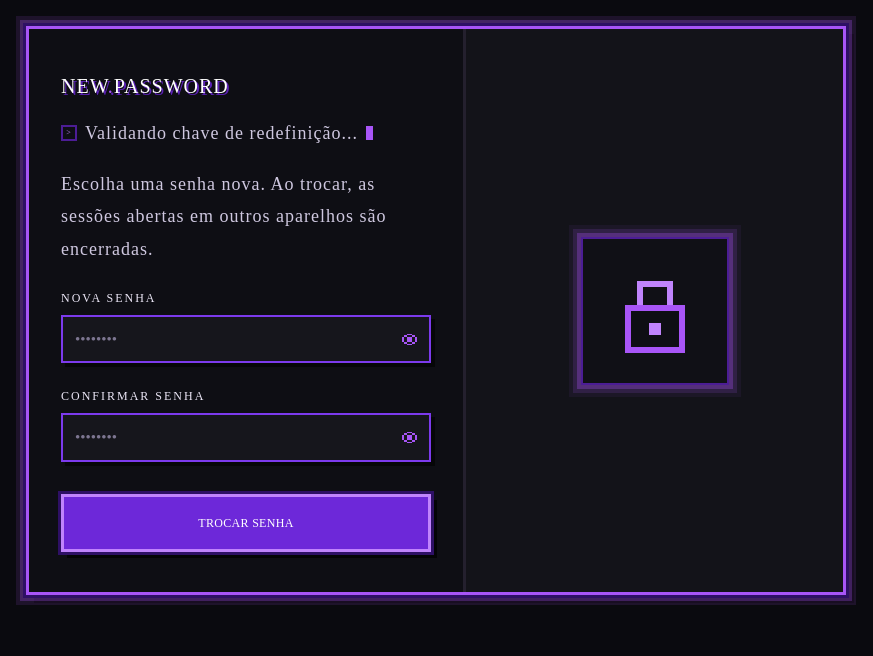
Test case: PainelNovaSenha › senha fraca recusada pelo servidor aparece no campo
The width and height of the screenshot is (873, 656).
Step 1. Type "Outra-trilha-de-java-7" into the password field labelled "NOVA SENHA" → (234, 339), box [75,317,394,362]
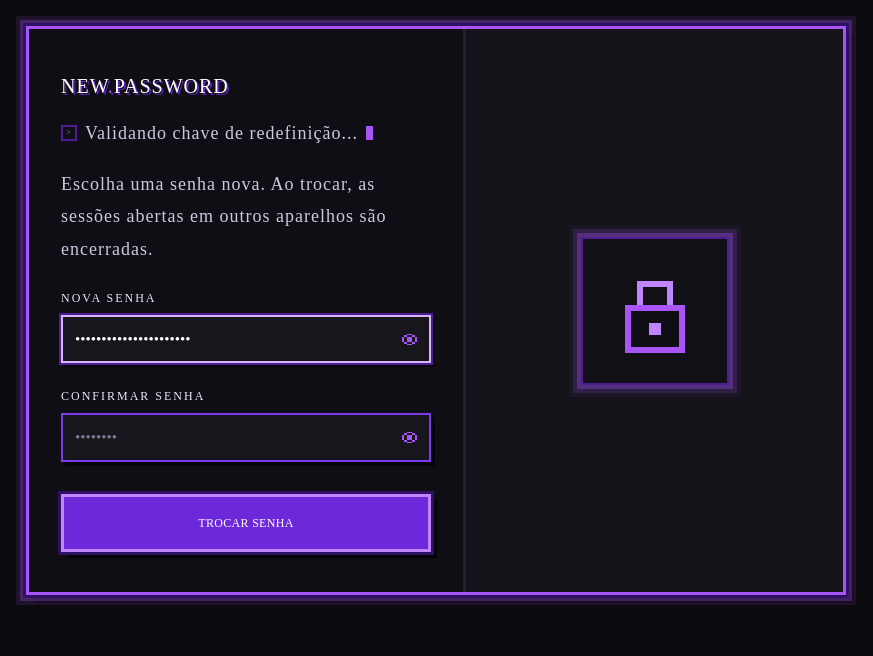
Step 2. Type "Outra-trilha-de-java-7" into the password field labelled "CONFIRMAR SENHA" → (234, 438), box [75,416,394,460]
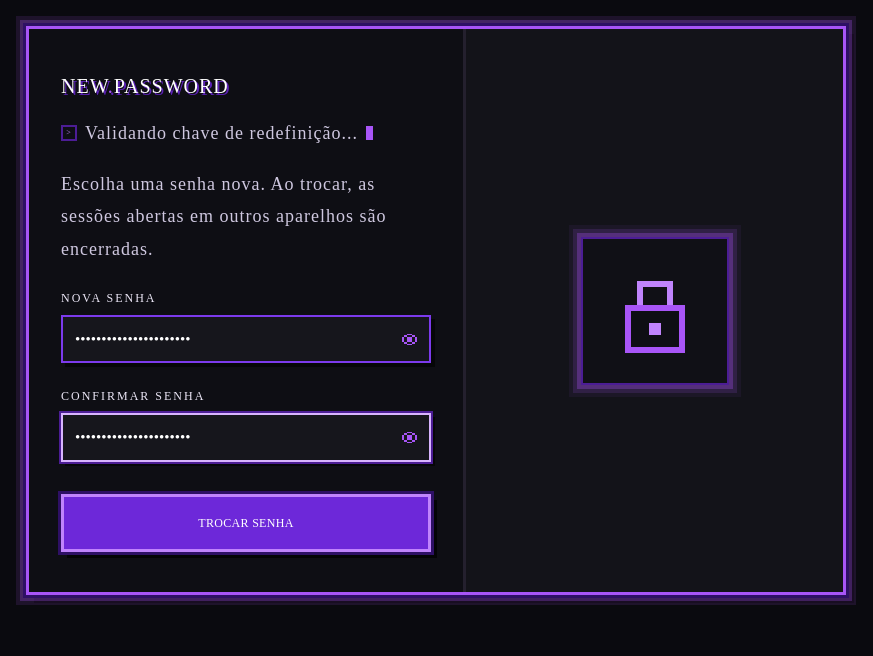
Step 3. Click the button "TROCAR SENHA" → (246, 523), box [61,494,431,552]
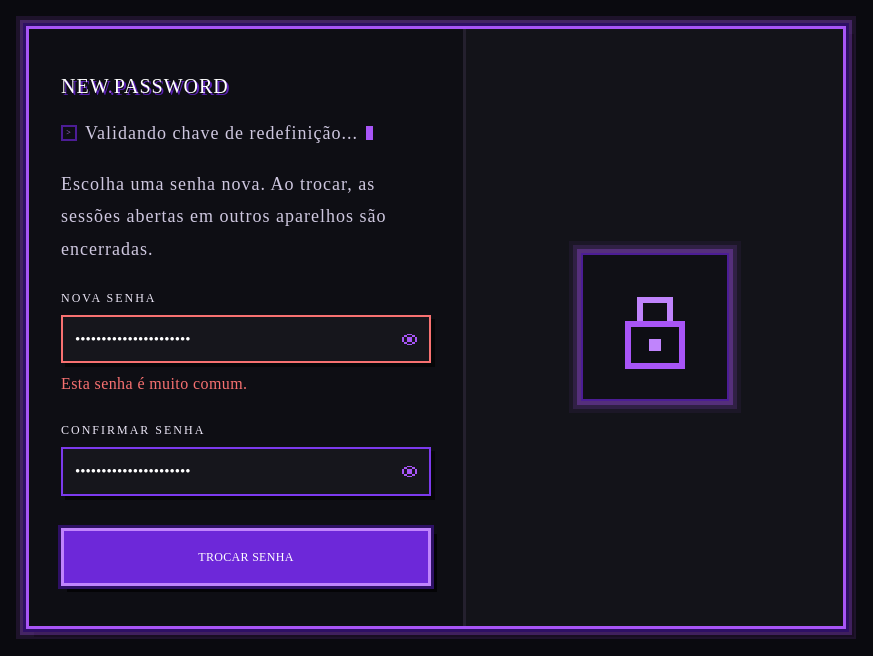
Now the text "Esta senha é muito comum." is shown, box [61,376,247,392]
